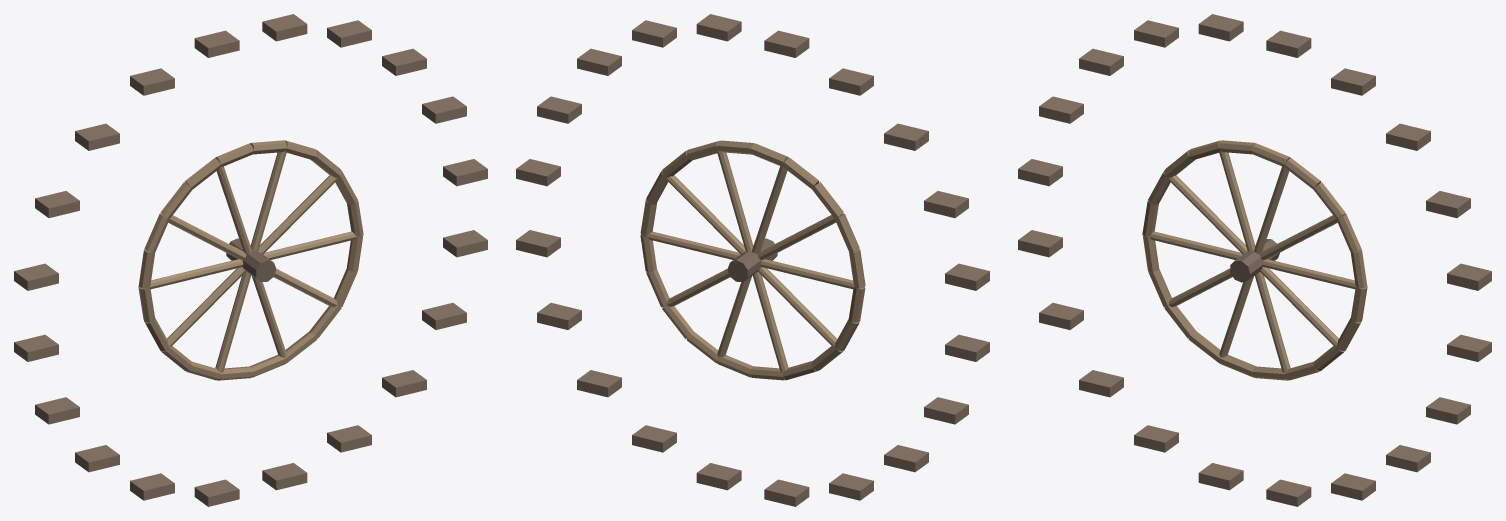
The model's file is watermill_wheel.glb.
3 renders of one model, left to right at view 1: azimuth 30°, elevation 25°; view 2: azimuth 150°, elevation 25°; view 3: azimuth 330°, elevation 25°, orthographic.
Parts seen in each view (by area): view 1: watermill_wheel_31, watermill_wheel_6, watermill_wheel_11, watermill_wheel_36, watermill_wheel_12, watermill_wheel_14, watermill_wheel_37, watermill_wheel_39, watermill_wheel_50, watermill_wheel_17, watermill_wheel_42, watermill_wheel_19 (+19 smaller); view 2: watermill_wheel_31, watermill_wheel_6, watermill_wheel_11, watermill_wheel_36, watermill_wheel_12, watermill_wheel_14, watermill_wheel_37, watermill_wheel_39, watermill_wheel_50, watermill_wheel_17, watermill_wheel_42, watermill_wheel_19 (+19 smaller); view 3: watermill_wheel_46, watermill_wheel_21, watermill_wheel_16, watermill_wheel_41, watermill_wheel_12, watermill_wheel_14, watermill_wheel_37, watermill_wheel_39, watermill_wheel_9, watermill_wheel_34, watermill_wheel_7, watermill_wheel_32 (+19 smaller).
Boxes of the visible parts, x1,y1,x2,y2 form: watermill_wheel_31: [167, 267, 246, 346]; watermill_wheel_6: [258, 175, 336, 254]; watermill_wheel_11: [250, 151, 286, 251]; watermill_wheel_36: [215, 271, 251, 372]; watermill_wheel_12: [262, 14, 307, 41]; watermill_wheel_14: [194, 30, 239, 57]; watermill_wheel_37: [194, 479, 239, 506]; watermill_wheel_39: [262, 463, 307, 490]; watermill_wheel_50: [226, 238, 276, 281]; watermill_wheel_17: [130, 68, 174, 95]; watermill_wheel_42: [327, 425, 371, 452]; watermill_wheel_19: [75, 123, 119, 150]; watermill_wheel_31: [757, 267, 837, 346]; watermill_wheel_6: [666, 175, 745, 254]; watermill_wheel_11: [717, 151, 753, 251]; watermill_wheel_36: [752, 271, 788, 372]; watermill_wheel_12: [696, 14, 741, 41]; watermill_wheel_14: [764, 30, 809, 57]; watermill_wheel_37: [764, 479, 809, 506]; watermill_wheel_39: [696, 463, 741, 490]; watermill_wheel_50: [727, 238, 777, 281]; watermill_wheel_17: [829, 68, 873, 95]; watermill_wheel_42: [632, 425, 676, 452]; watermill_wheel_19: [884, 123, 928, 150]; watermill_wheel_46: [1260, 267, 1338, 346]; watermill_wheel_21: [1169, 175, 1247, 254]; watermill_wheel_16: [1219, 151, 1255, 251]; watermill_wheel_41: [1254, 272, 1290, 372]; watermill_wheel_12: [1266, 30, 1311, 57]; watermill_wheel_14: [1198, 14, 1243, 41]; watermill_wheel_37: [1198, 463, 1243, 490]; watermill_wheel_39: [1266, 479, 1311, 506]; watermill_wheel_9: [1331, 68, 1375, 95]; watermill_wheel_34: [1134, 425, 1178, 452]; watermill_wheel_7: [1386, 123, 1430, 150]; watermill_wheel_32: [1079, 370, 1123, 397].
Bounding box in the file's own units: 8.84 × 8.42 × 1.
